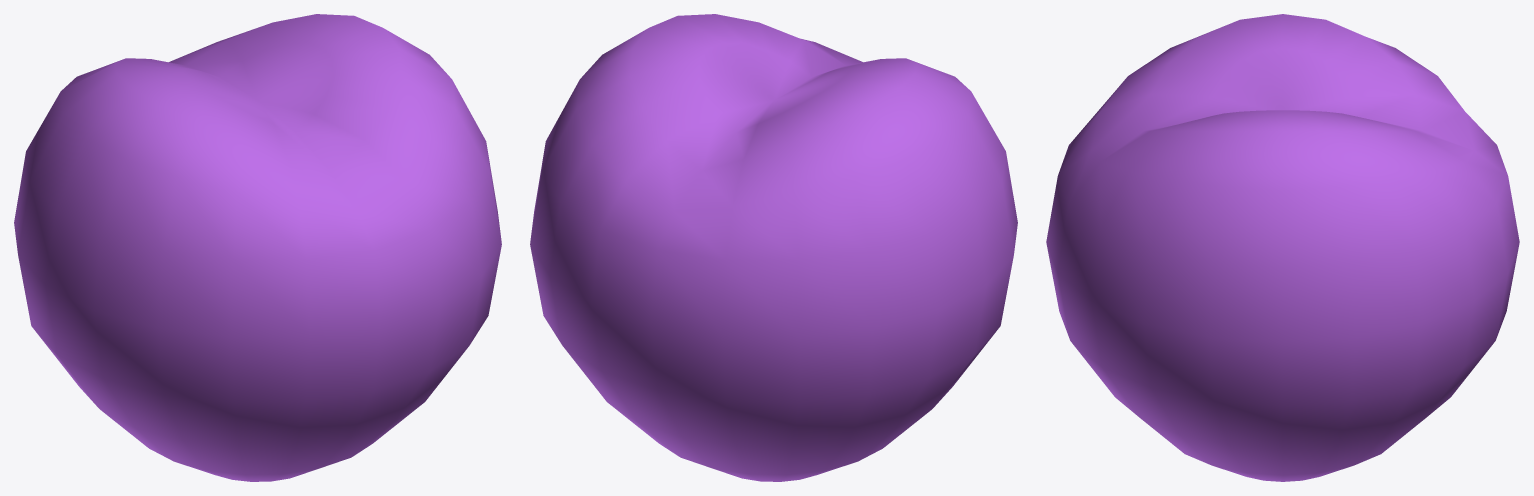
The model's file is Gem_Purple.fbx.
The picture shows the model from 3 angles, left to right: view 1: azimuth 30°, elevation 25°; view 2: azimuth 150°, elevation 25°; view 3: azimuth 270°, elevation 25°; orthographic projection. The views are drawn at different scales.
Visible parts, largest first — view 1: Gem_Purple; view 2: Gem_Purple; view 3: Gem_Purple.
Boxes of the visible parts, x1,y1,x2,y2 form: Gem_Purple: (14, 14, 501, 481); Gem_Purple: (530, 14, 1017, 481); Gem_Purple: (1046, 14, 1519, 481).
Bounding box in the file's own units: 1 × 0.9185 × 1.
